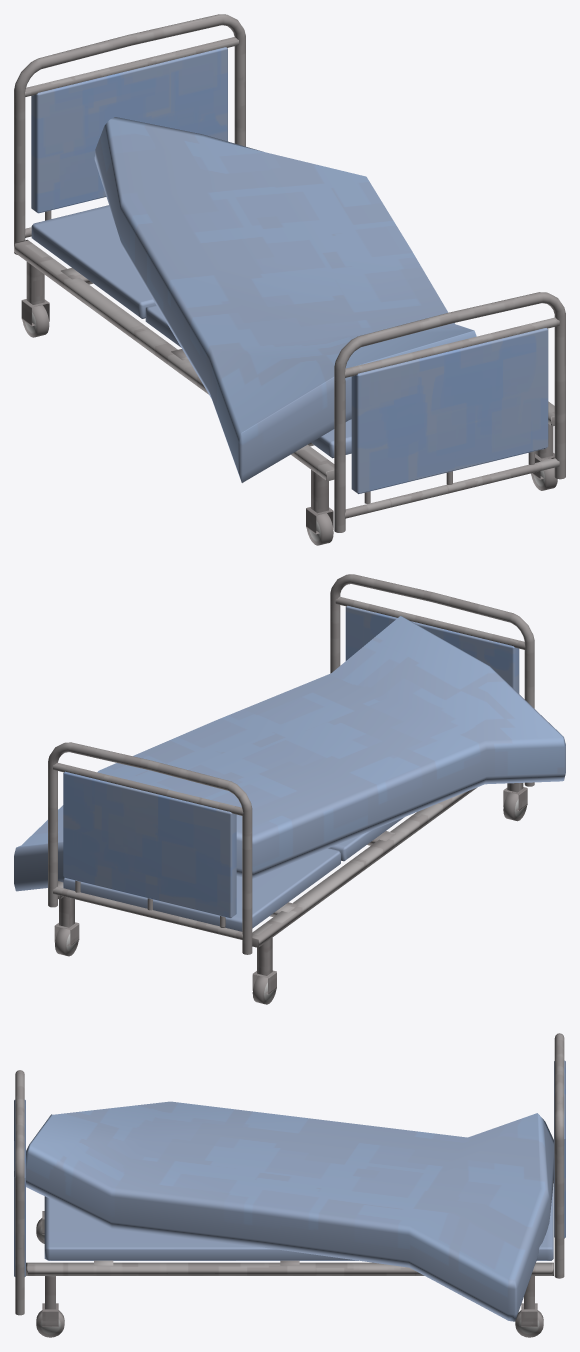
File: Env_HospitalBed_02.fbx
The picture shows the model from 3 angles, top to bottom: view 1: azimuth 30°, elevation 25°; view 2: azimuth 150°, elevation 25°; view 3: azimuth 270°, elevation 25°; orthographic projection. The views are drawn at different scales.
Parts seen in each view (by area): view 1: Env_HospitalBed_02; view 2: Env_HospitalBed_02; view 3: Env_HospitalBed_02.
Part boxes in pixels (x1=…): Env_HospitalBed_02: x1=14, y1=14, x2=565, y2=545; Env_HospitalBed_02: x1=14, y1=574, x2=565, y2=1004; Env_HospitalBed_02: x1=14, y1=1033, x2=565, y2=1337.
Bounding box in the file's own units: 132 × 90.71 × 207.
